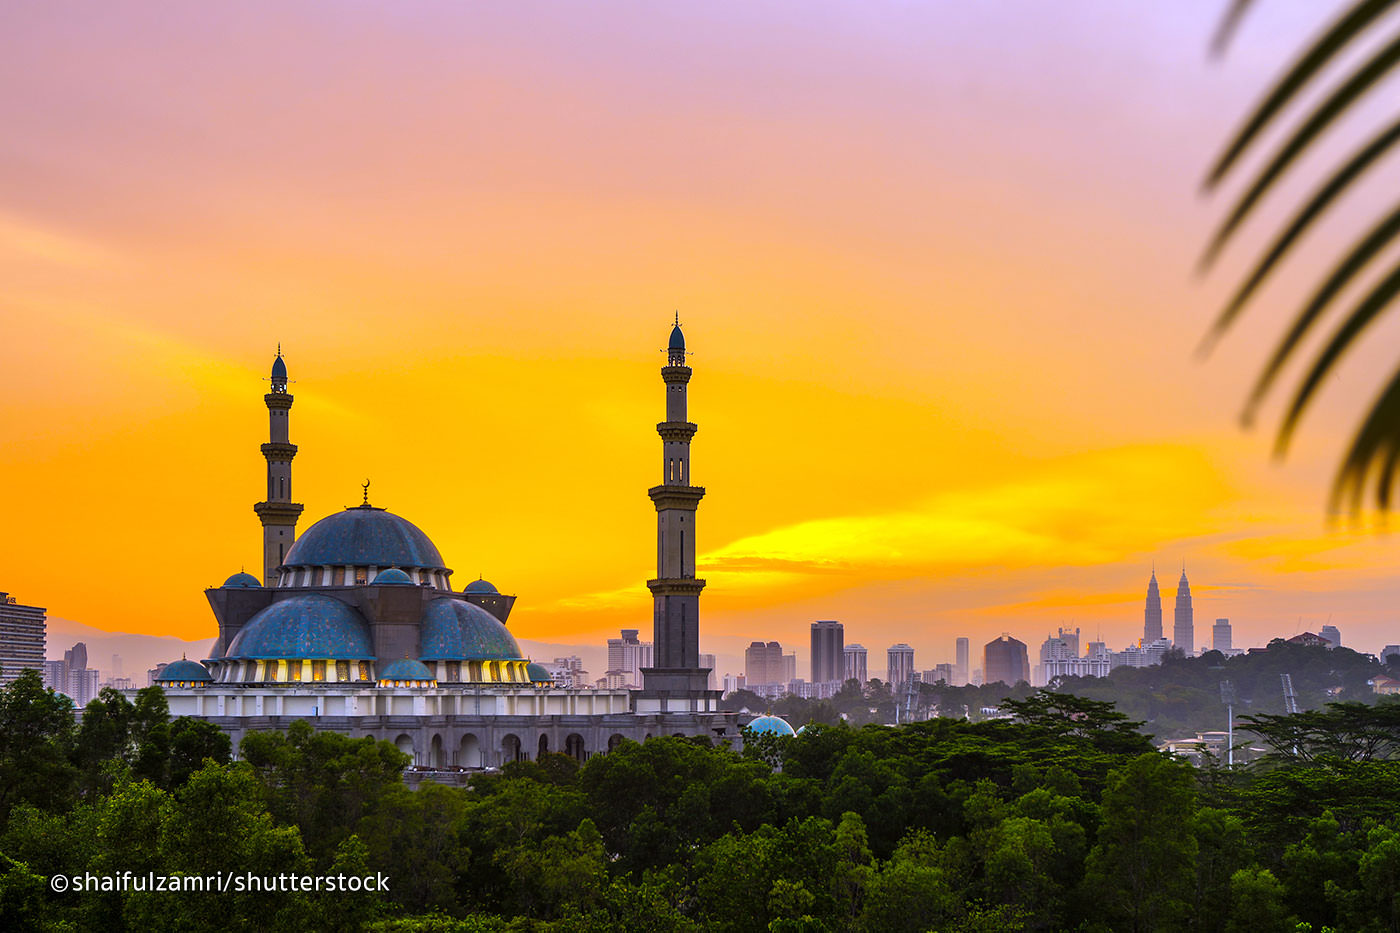Mosque: (172, 338, 721, 706)
